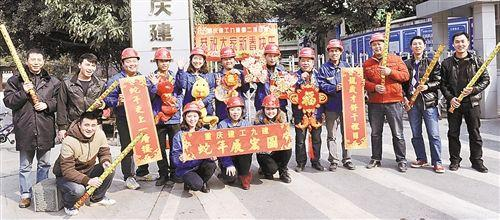helmet: (152, 47, 175, 63), (121, 47, 142, 64), (227, 97, 249, 110), (326, 39, 345, 51), (265, 96, 281, 109), (190, 49, 210, 59), (266, 43, 282, 55), (300, 48, 316, 60), (187, 103, 203, 115), (221, 47, 238, 58), (371, 35, 388, 45)
